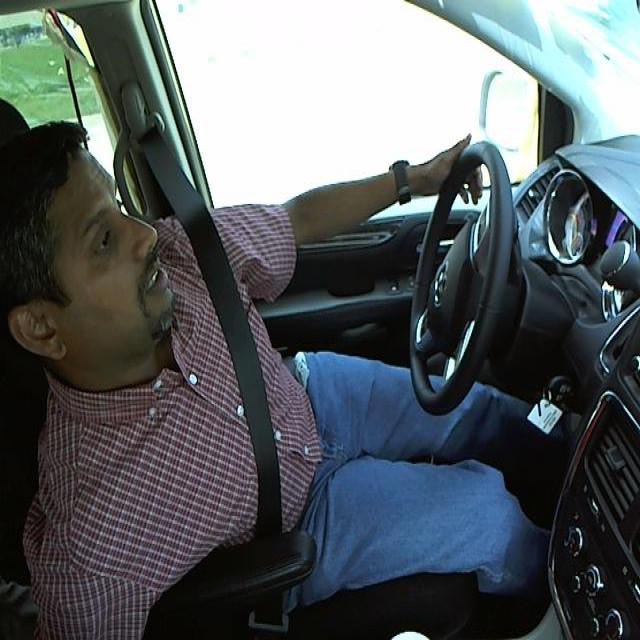seatbelt: (173, 216, 311, 555)
